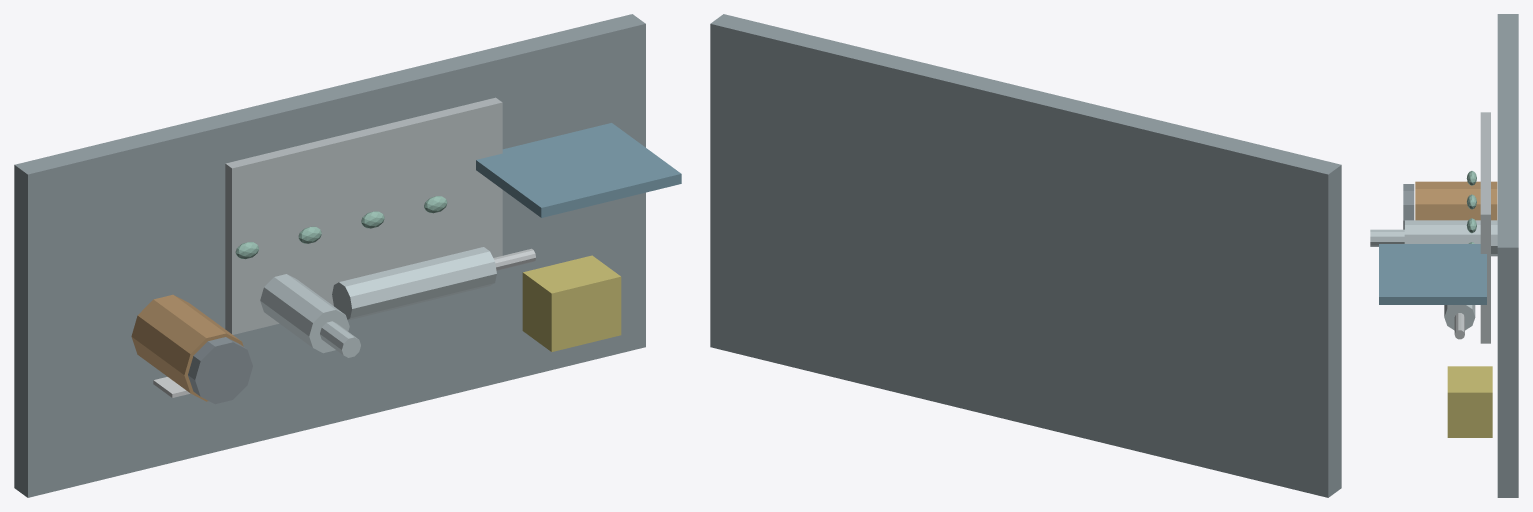
The model's file is medication-bench-low.glb.
3 views of the same model, side by side, from view 1: azimuth 30°, elevation 25°; view 2: azimuth 150°, elevation 25°; view 3: azimuth 270°, elevation 25° (orthographic). The views are drawn at different scales.
Parts seen in each view (by area): view 1: workbench, tray, case_board, discard_box, training_syringe_barrel, vial_body, ampoule_body, vial_cap, ampoule_neck; view 2: workbench; view 3: workbench, case_board, discard_box, vial_body, tray, ampoule_body, training_syringe_barrel, ampoule_neck, vial_cap, training_syringe_tip.
Boxes of the visible parts, x1,y1,x2,y2 form: workbench: [14, 14, 645, 497]; tray: [225, 97, 502, 334]; case_board: [476, 123, 681, 217]; discard_box: [522, 255, 621, 351]; training_syringe_barrel: [332, 247, 496, 320]; vial_body: [131, 294, 243, 401]; ampoule_body: [260, 274, 349, 353]; vial_cap: [188, 337, 252, 404]; ampoule_neck: [320, 321, 360, 357]; workbench: [710, 14, 1341, 497]; workbench: [1497, 14, 1518, 497]; case_board: [1379, 244, 1486, 304]; discard_box: [1447, 366, 1492, 437]; vial_body: [1415, 181, 1497, 220]; tray: [1480, 112, 1490, 343]; ampoule_body: [1404, 220, 1497, 256]; training_syringe_barrel: [1444, 305, 1475, 330]; ampoule_neck: [1370, 229, 1404, 246]; vial_cap: [1403, 184, 1414, 229]; training_syringe_tip: [1454, 313, 1464, 339].
Size of the model in its own units: 6.4 by 3.2 by 1.71.
